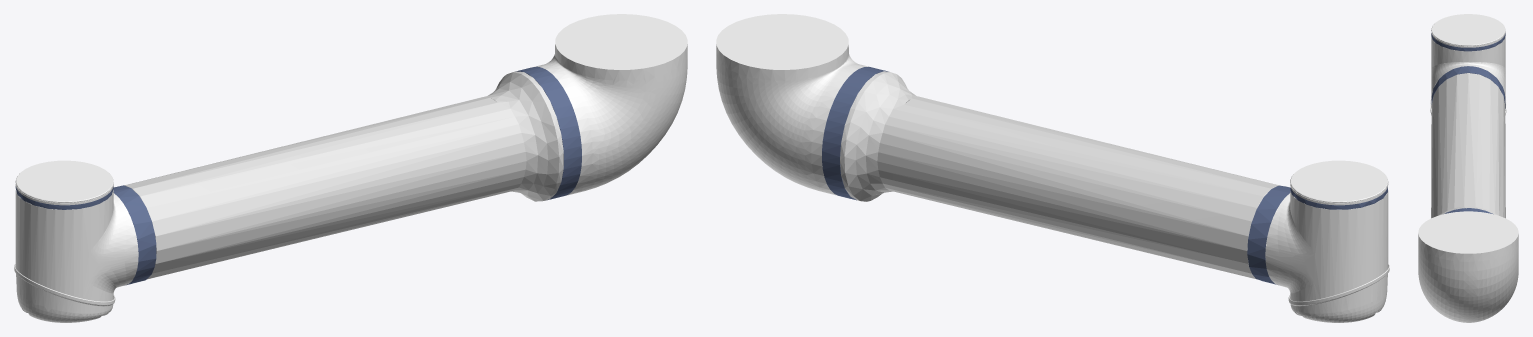
File: forearm.dae
3 renders of one model, left to right at view 1: azimuth 30°, elevation 25°; view 2: azimuth 150°, elevation 25°; view 3: azimuth 270°, elevation 25°, orthographic. The views are drawn at different scales.
Parts seen in each view (by area): view 1: cs612_link3_part3, cs612_link3_part1, cs612_link3_part2; view 2: cs612_link3_part3, cs612_link3_part1, cs612_link3_part2; view 3: cs612_link3_part1, cs612_link3_part3, cs612_link3_part2.
Part boxes in pixels (x1=…): cs612_link3_part3: x1=124, y1=71, x2=563, y2=279; cs612_link3_part1: x1=14, y1=14, x2=687, y2=322; cs612_link3_part2: x1=15, y1=66, x2=581, y2=285; cs612_link3_part3: x1=840, y1=71, x2=1279, y2=279; cs612_link3_part1: x1=716, y1=14, x2=1389, y2=322; cs612_link3_part2: x1=822, y1=66, x2=1387, y2=284; cs612_link3_part1: x1=1418, y1=14, x2=1518, y2=322; cs612_link3_part3: x1=1431, y1=73, x2=1505, y2=218; cs612_link3_part2: x1=1431, y1=33, x2=1505, y2=214.
Size of the model in its own units: 0.6749 by 0.118 by 0.1319.
